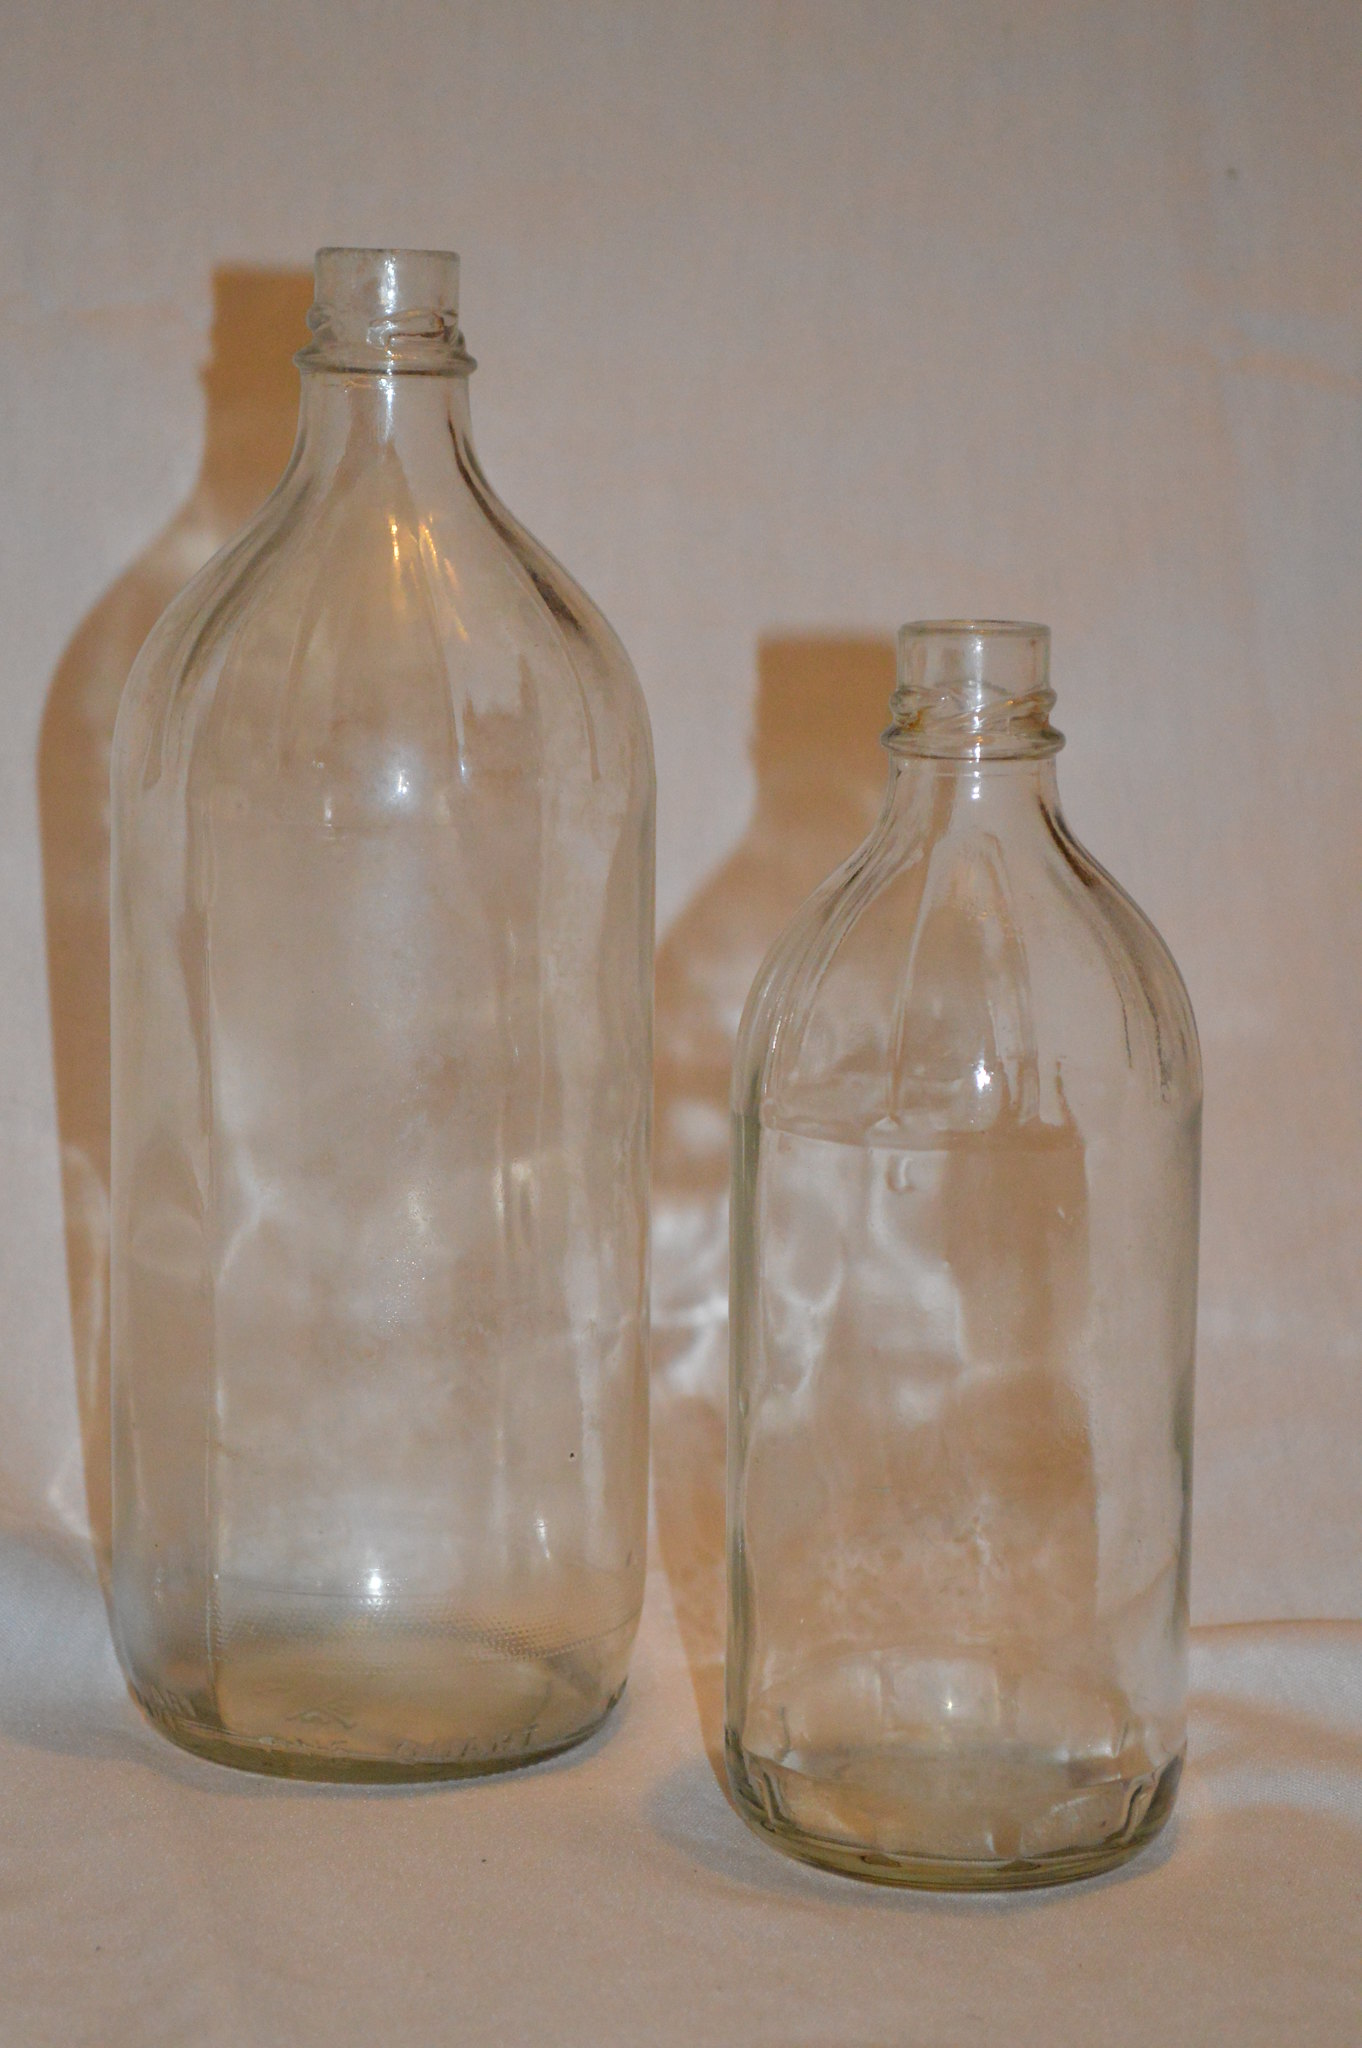bottle: (100, 239, 651, 1781), (717, 617, 1183, 1892)
